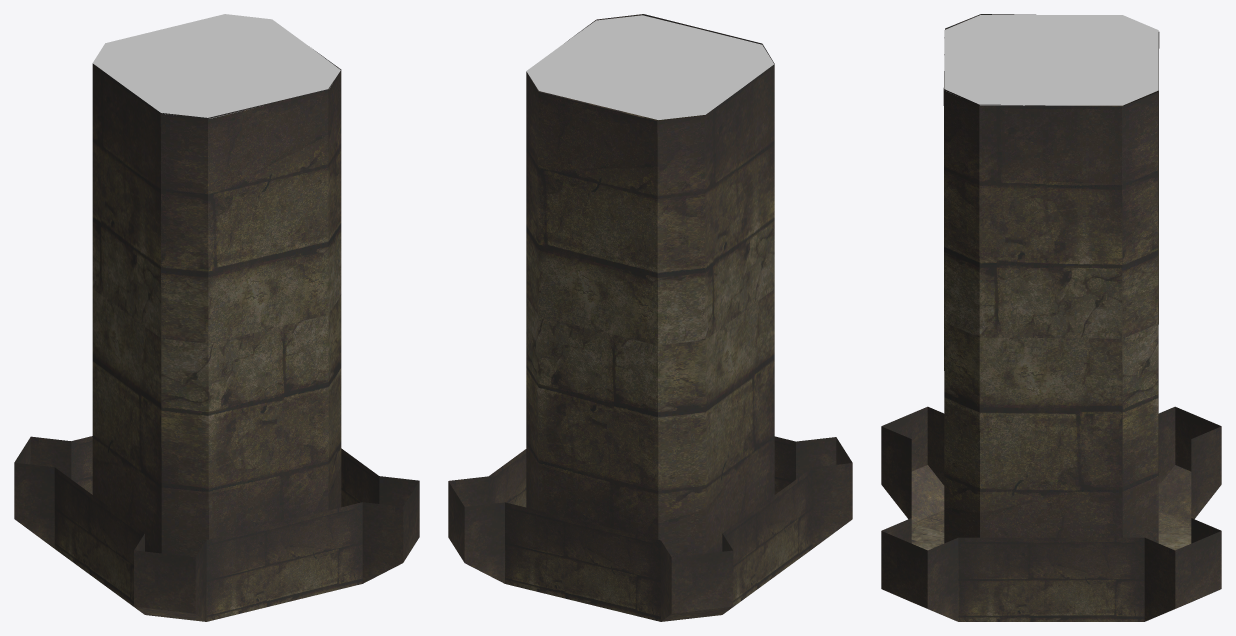
The model's file is window_high_worn_amfp.dae.
3 renders of one model, left to right at view 1: azimuth 30°, elevation 25°; view 2: azimuth 150°, elevation 25°; view 3: azimuth 270°, elevation 25°, orthographic. The views are drawn at different scales.
Visible parts, largest first — view 1: polySurface4, polySurface5; view 2: polySurface4, polySurface5; view 3: polySurface4, polySurface5.
Boxes of the visible parts, left/top/right/bottom form: polySurface4: left=14, top=49, right=419, bottom=621; polySurface5: left=93, top=14, right=340, bottom=118; polySurface4: left=448, top=14, right=852, bottom=621; polySurface5: left=526, top=15, right=773, bottom=119; polySurface4: left=881, top=14, right=1221, bottom=621; polySurface5: left=944, top=15, right=1158, bottom=105.
Bounding box in the file's own units: 3.66 × 5.97 × 3.66.
